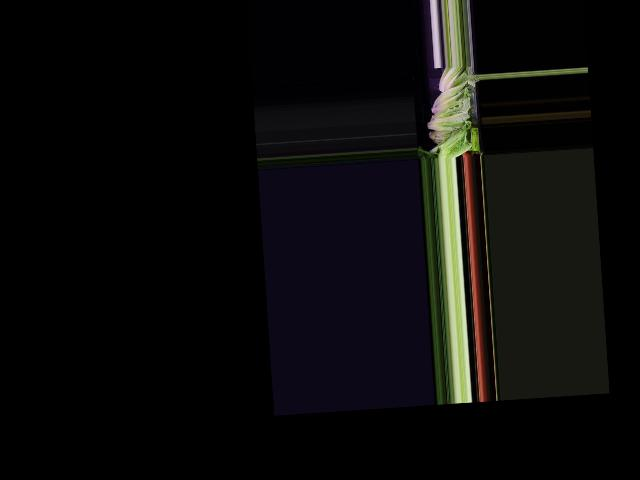lettuce: (436, 65, 467, 94)
